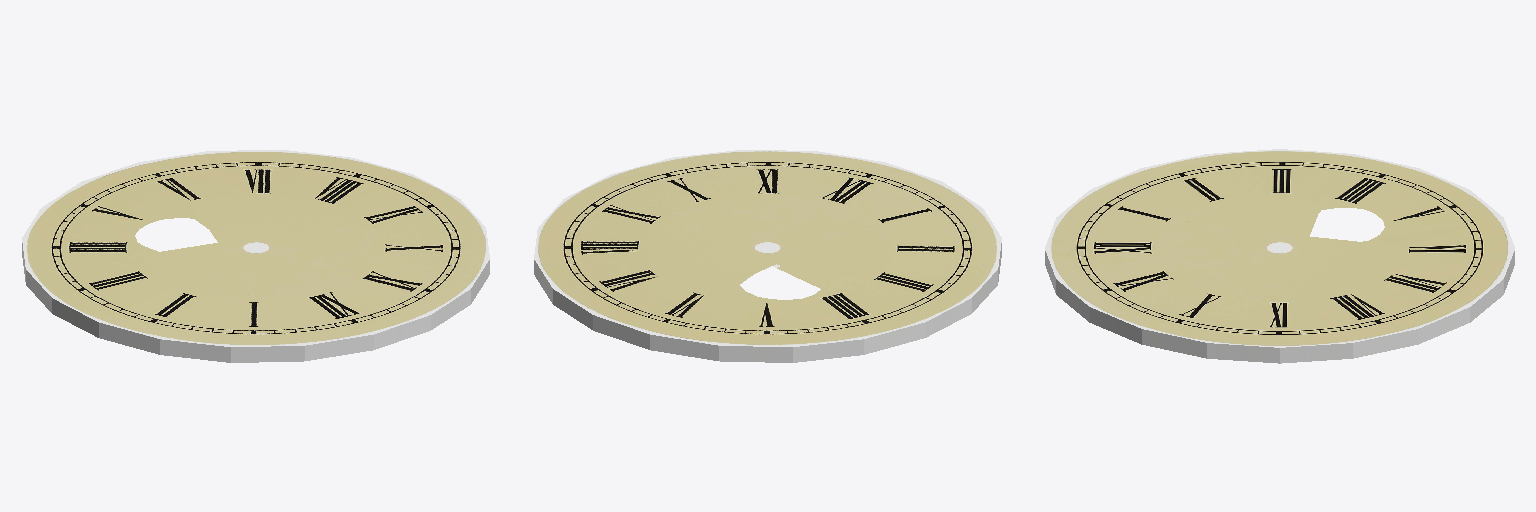
The picture shows the model from 3 angles: view 1: azimuth 30°, elevation 25°; view 2: azimuth 150°, elevation 25°; view 3: azimuth 270°, elevation 25°; orthographic projection.
Visible parts, largest first — view 1: pCylinder2; view 2: pCylinder2; view 3: pCylinder2.
Boxes of the visible parts, box(x1,y1,x2,y2) form: pCylinder2: box(22, 150, 489, 362); pCylinder2: box(534, 150, 1001, 362); pCylinder2: box(1045, 149, 1514, 363).
Size of the model in its own units: 17.21 by 0.6605 by 17.21.
1 materials, 1 textured.